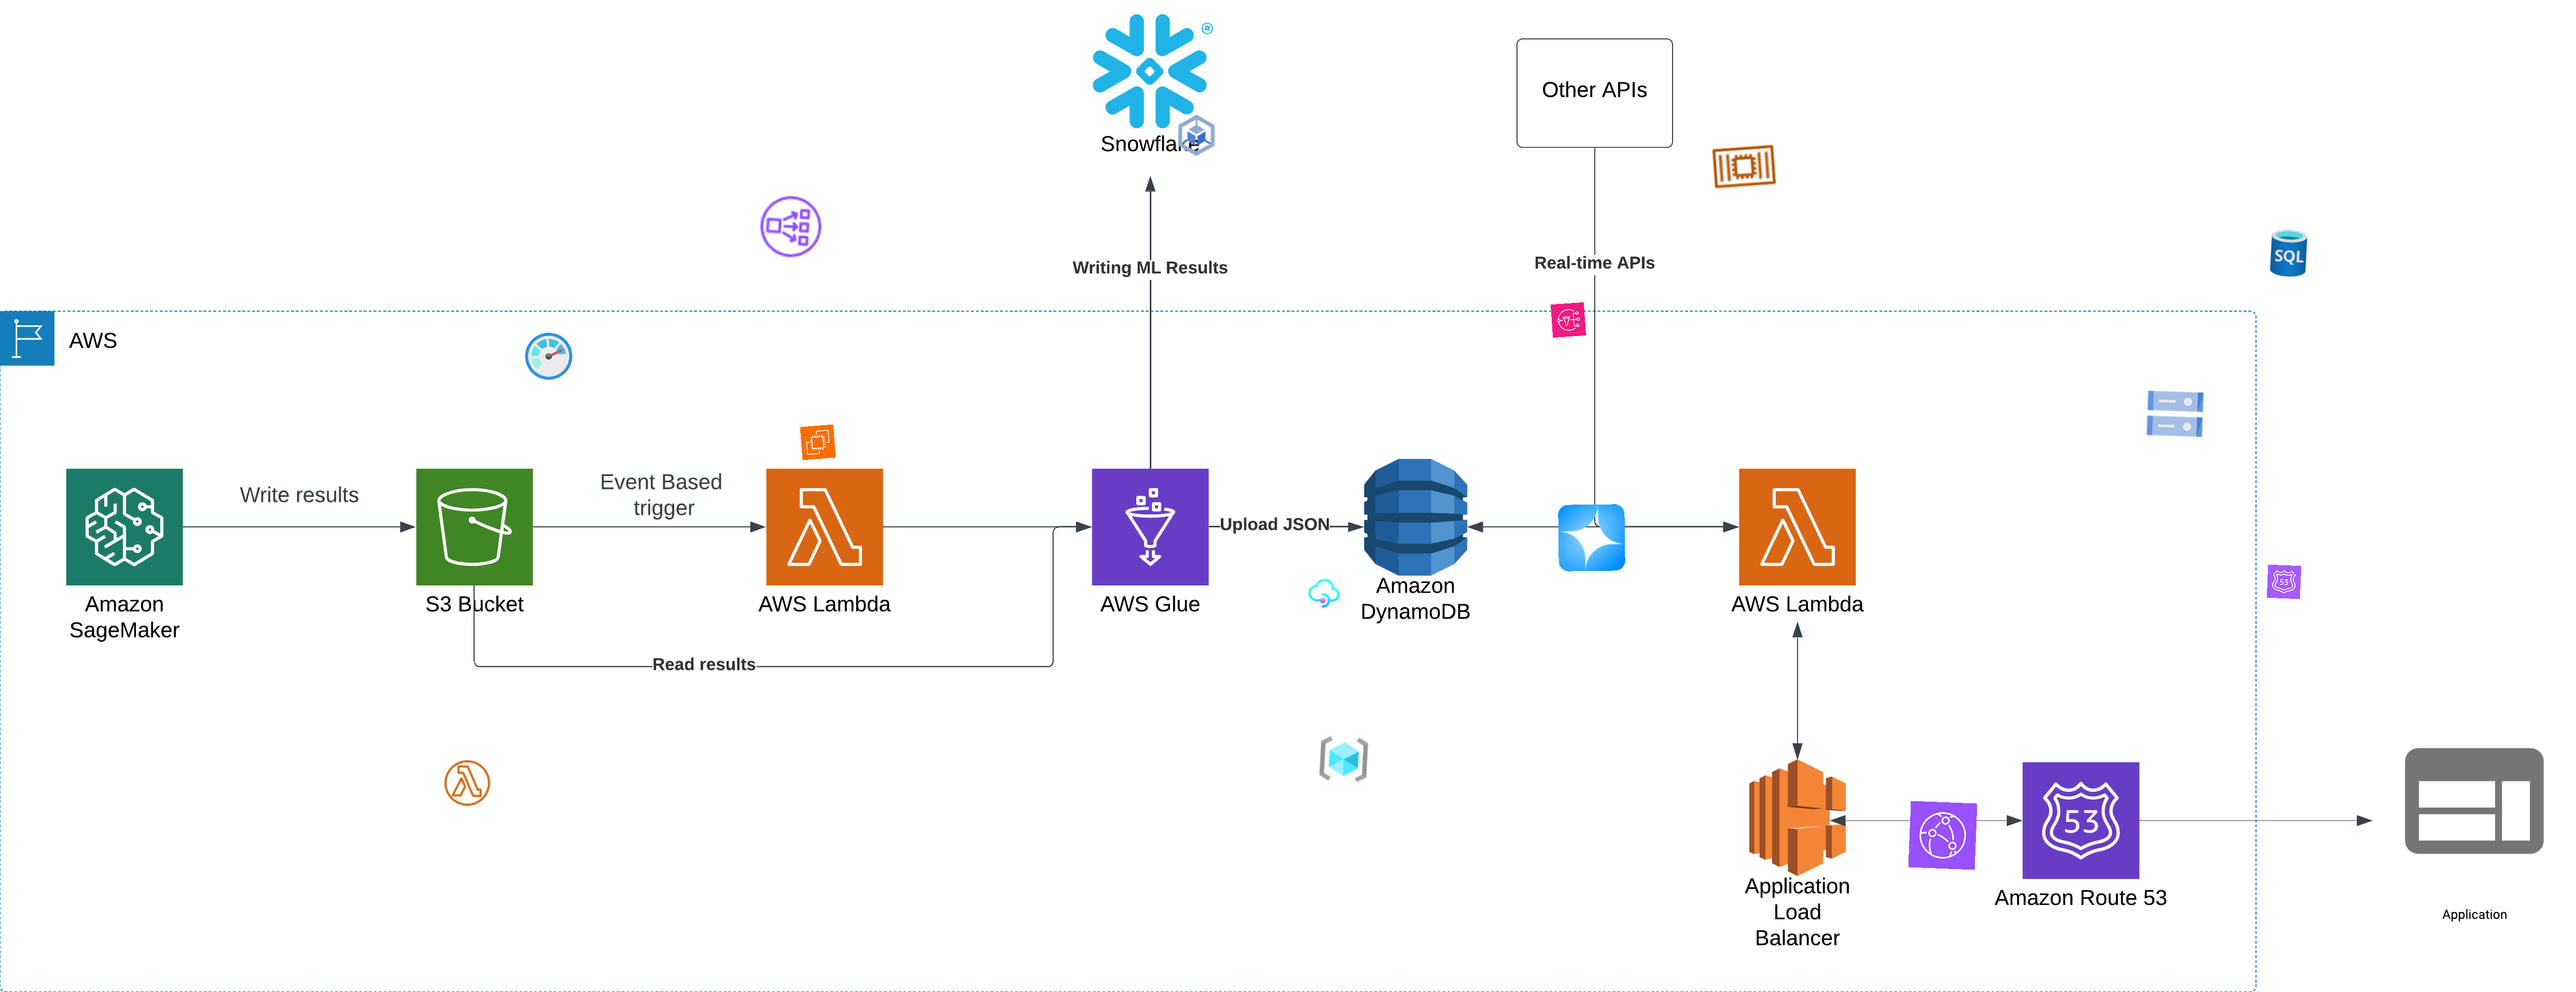aws_amazon_cloudfront: (1907, 800, 1978, 870)
aws_amazon_ec2: (800, 424, 836, 460)
aws_amazon_route_53: (2267, 565, 2302, 599)
aws_amazon_simple_notification_service: (1551, 302, 1587, 338)
aws_elastic_container_service_container_2: (1709, 131, 1779, 202)
aws_elastic_load_balancing_network_load_balancer: (756, 192, 826, 261)
aws_lambda_lambda_function: (442, 757, 493, 810)
azure_api_management_services: (1308, 576, 1341, 611)
azure_monitor: (522, 328, 575, 383)
azure_openai: (1557, 504, 1625, 572)
azure_resource_groups: (1318, 733, 1370, 785)
azure_sql_database: (2262, 227, 2315, 279)
gcp_cloud_storage: (2141, 379, 2210, 448)
gcp_google_kubernetes_engine: (1171, 110, 1222, 161)
